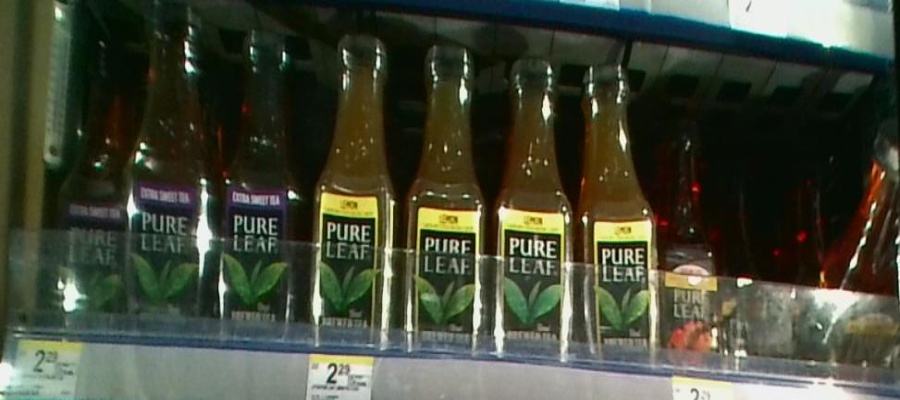bottle: (127, 4, 214, 338), (400, 33, 490, 352), (216, 18, 304, 339), (308, 22, 394, 345), (578, 57, 662, 373), (495, 41, 576, 361), (55, 36, 124, 330), (841, 121, 900, 359), (665, 108, 719, 361)
